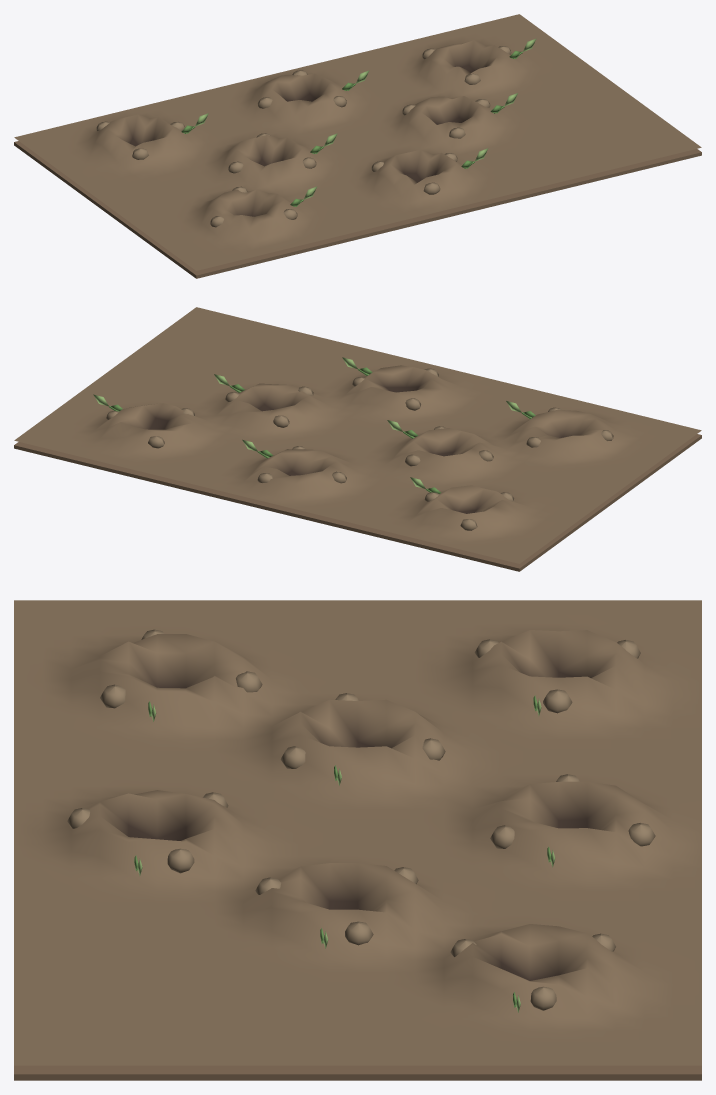
Rendered from field_stage0_low.glb.
The picture shows the model from 3 angles, top to bottom: view 1: azimuth 30°, elevation 25°; view 2: azimuth 150°, elevation 25°; view 3: azimuth 270°, elevation 25°; orthographic projection. The views are drawn at different scales.
Size of the model in its own units: 8 by 0.4 by 5.
